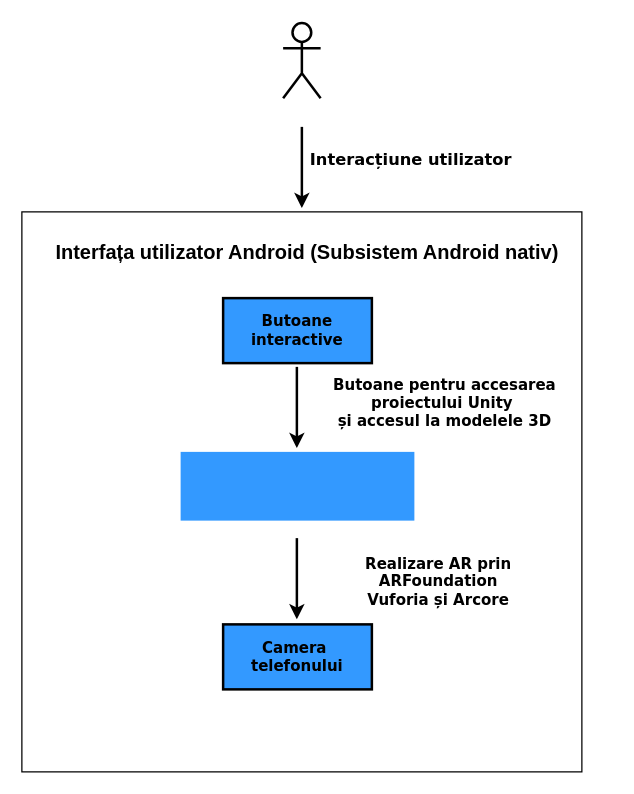
This 634x794 diagram has some shape labels left out. The box of each missing label's shape, as (x1, y1, x2, y2) in pixels:
Actor: (281, 21, 321, 99)
Subsistem Unity (ARFoundation,ARCore, Vuforia): (178, 449, 416, 522)
